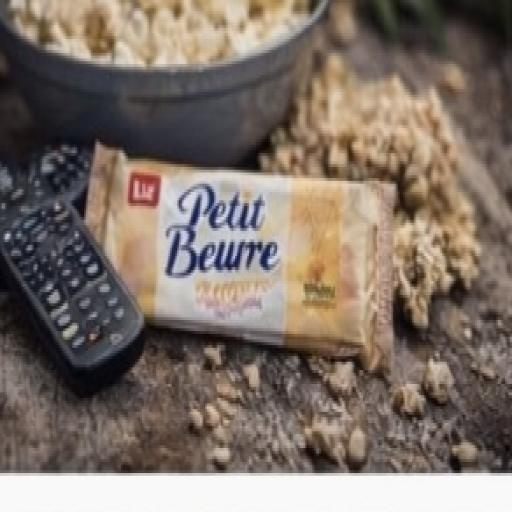petit-beurre: (53, 58, 480, 429)
